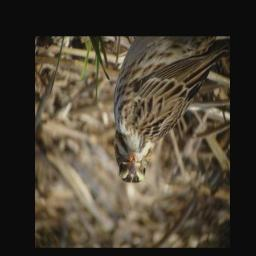Sparrow: (111, 37, 229, 185)
